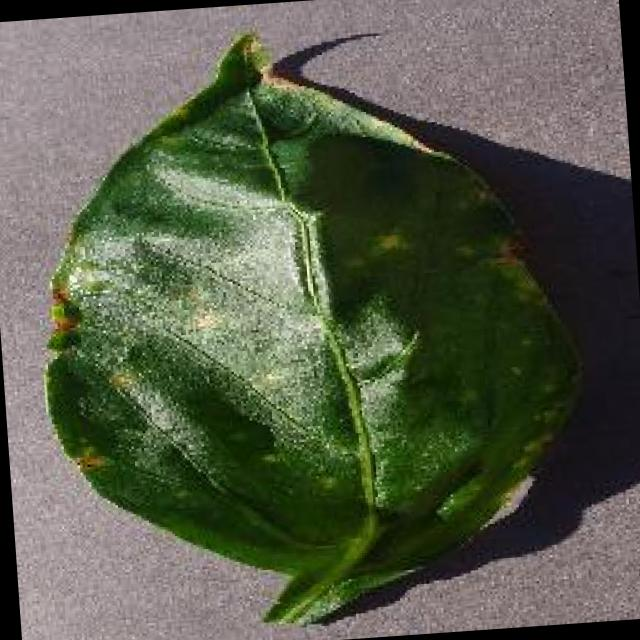Chilli_Bacterial_Spot: (15, 7, 603, 640), (230, 28, 276, 86), (63, 255, 109, 303), (486, 228, 526, 271), (364, 226, 408, 259), (46, 297, 80, 334), (71, 448, 108, 478), (102, 365, 136, 395), (46, 280, 70, 306)
